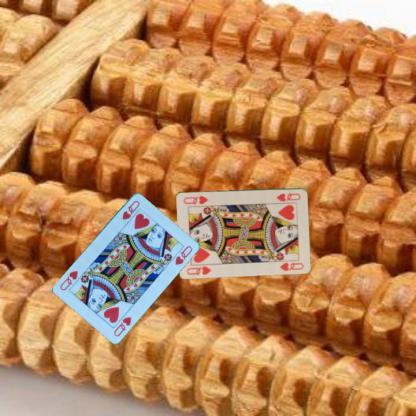Qh: (111, 314, 132, 337), (120, 198, 141, 220), (274, 190, 302, 203), (184, 264, 212, 276)
